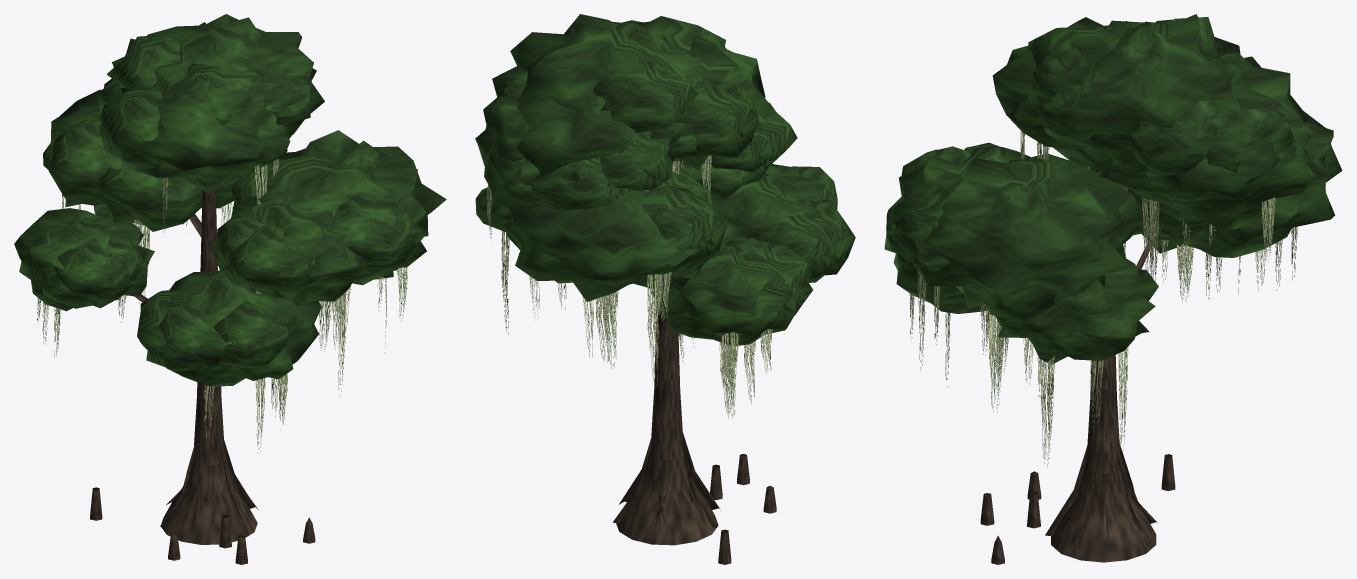
File: cypress_3.glb
3 views of the same model, side by side, from view 1: azimuth 30°, elevation 25°; view 2: azimuth 150°, elevation 25°; view 3: azimuth 270°, elevation 25° (orthographic). The views are drawn at different scales.
Visible parts, largest first — view 1: cypress; view 2: cypress; view 3: cypress.
Part boxes in pixels (left/top/right/bottom): cypress: left=14, top=14, right=446, bottom=564; cypress: left=475, top=14, right=855, bottom=564; cypress: left=884, top=14, right=1342, bottom=564.
Bounding box in the file's own units: 11.96 × 16.27 × 12.7.
3 materials, 3 textured.
